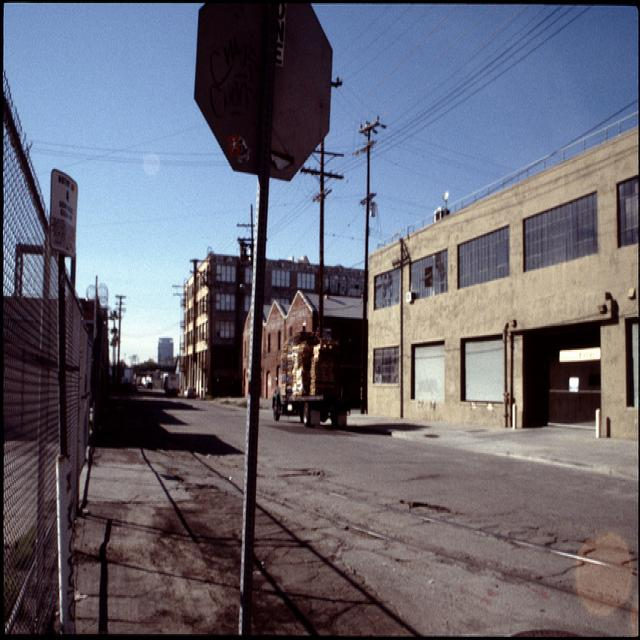Vehicle: (271, 332, 353, 428), (162, 374, 180, 396)
